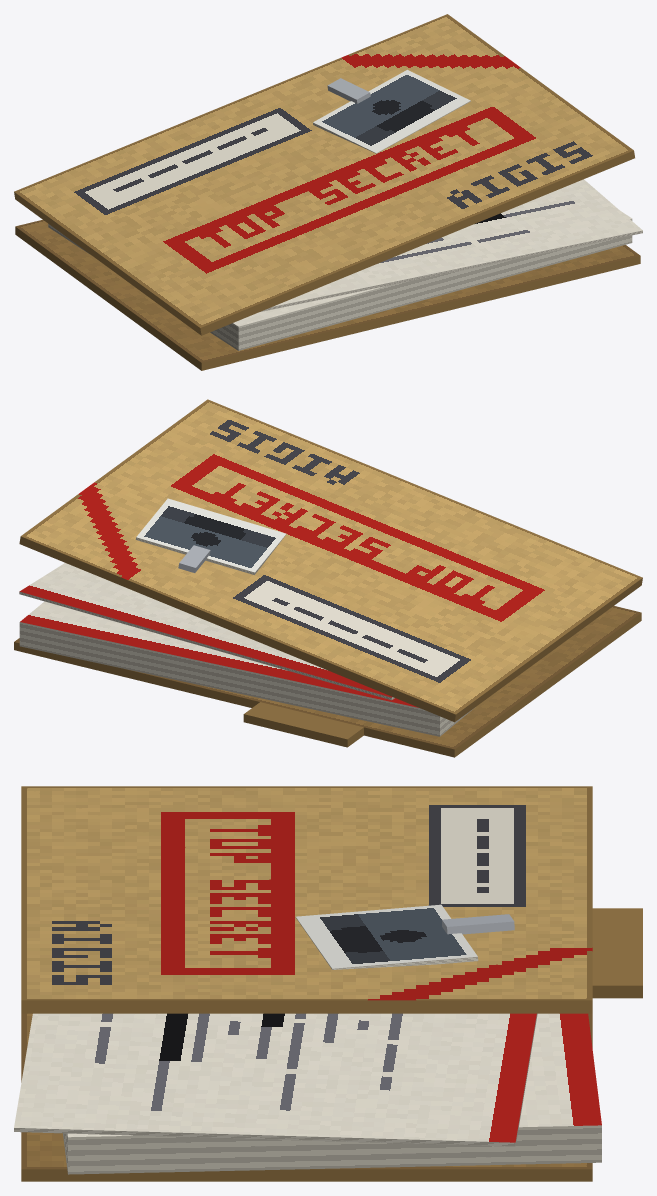
File: intel_dossier.glb
3 renders of one model, top to bottom at view 1: azimuth 30°, elevation 25°; view 2: azimuth 150°, elevation 25°; view 3: azimuth 270°, elevation 25°, orthographic. The views are drawn at different scales.
Parts seen in each view (by area): view 1: IntelDossier; view 2: IntelDossier; view 3: IntelDossier.
Part boxes in pixels (x1=…): IntelDossier: x1=14, y1=14, x2=642, y2=370; IntelDossier: x1=14, y1=399, x2=642, y2=757; IntelDossier: x1=14, y1=786, x2=642, y2=1181.
Bounding box in the file's own units: 0.3562 × 0.0851 × 0.2752.
Materials: 1 (1 with a texture image).
